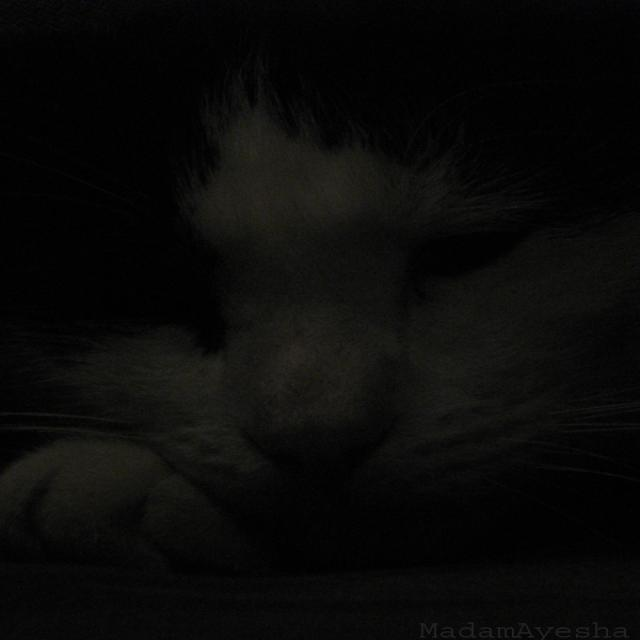Cat: (7, 0, 640, 584)
